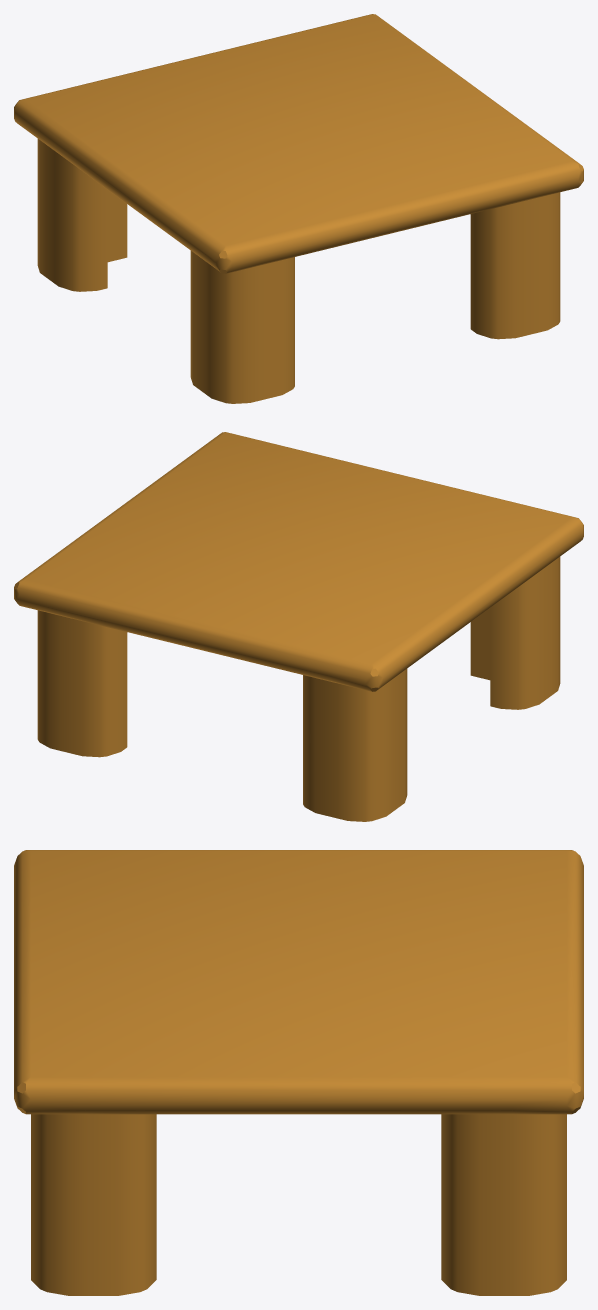
The model's file is Desk.FBX.
The picture shows the model from 3 angles, top to bottom: view 1: azimuth 30°, elevation 25°; view 2: azimuth 150°, elevation 25°; view 3: azimuth 270°, elevation 25°; orthographic projection. The views are drawn at different scales.
Parts seen in each view (by area): view 1: Box001; view 2: Box001; view 3: Box001.
Part boxes in pixels (bbox=[...]): Box001: bbox=[14, 14, 583, 403]; Box001: bbox=[14, 432, 583, 821]; Box001: bbox=[14, 850, 583, 1295].
Bounding box in the file's own units: 140 × 140 × 59.34.
Materials: 1 (1 with a texture image).
